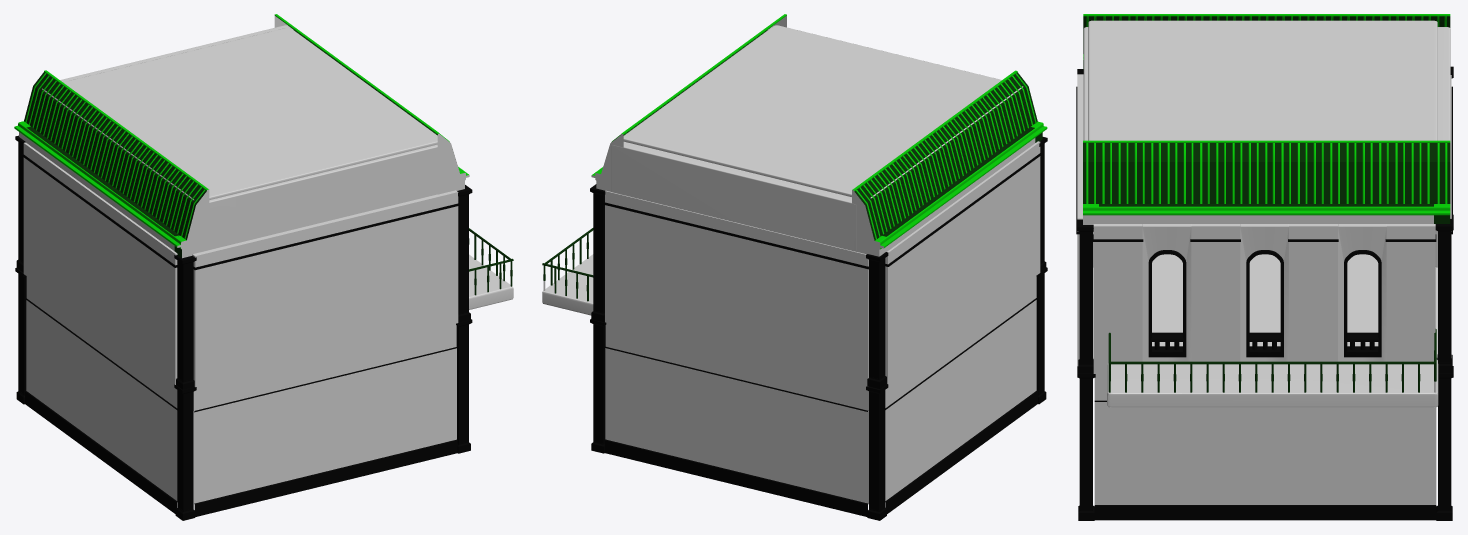
File: Building_2_Musante_Michael.fbx
3 views of the same model, side by side, from view 1: azimuth 30°, elevation 25°; view 2: azimuth 150°, elevation 25°; view 3: azimuth 270°, elevation 25° (orthographic). The views are drawn at different scales.
Parts seen in each view (by area): view 1: Building_2_Musante_Michael1; view 2: Building_2_Musante_Michael1; view 3: Building_2_Musante_Michael1.
Boxes of the visible parts, x1=… form: Building_2_Musante_Michael1: x1=14, y1=14, x2=513, y2=520; Building_2_Musante_Michael1: x1=542, y1=14, x2=1047, y2=520; Building_2_Musante_Michael1: x1=1076, y1=14, x2=1453, y2=520.
Bounding box in the file's own units: 27.75 × 24.63 × 23.19.
